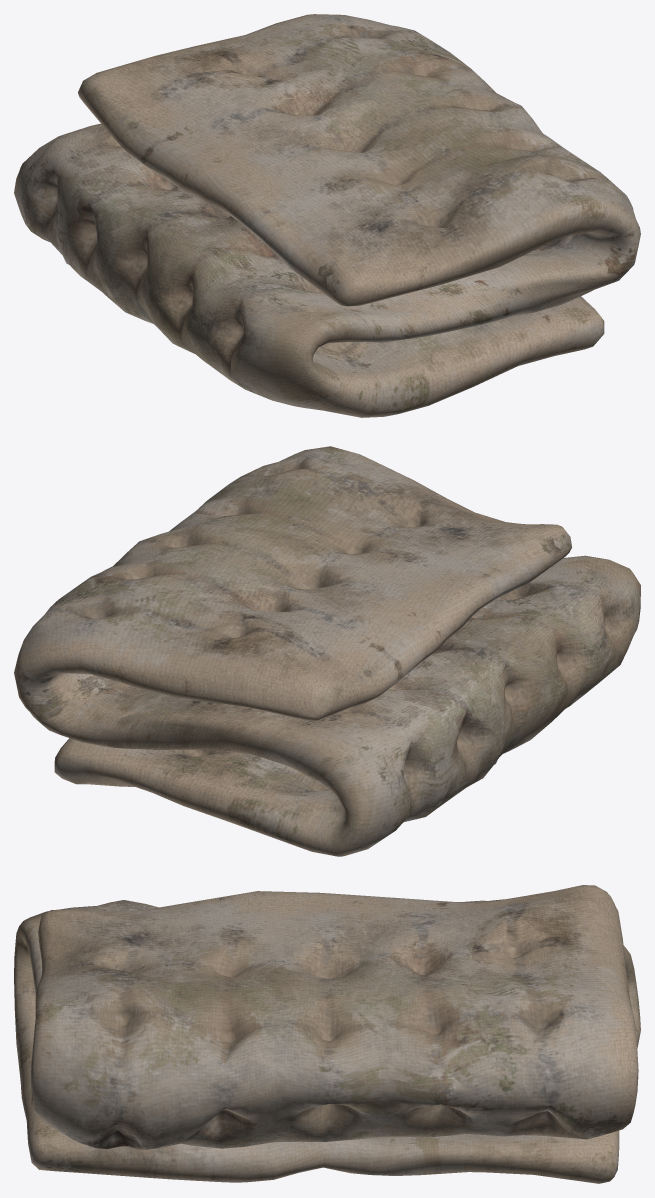
Rendered from SM_Mattress01_3_LOD0.glb.
3 views of the same model, one above another, from view 1: azimuth 30°, elevation 25°; view 2: azimuth 150°, elevation 25°; view 3: azimuth 270°, elevation 25° (orthographic). The views are drawn at different scales.
Visible parts, largest first — view 1: SM_Mattress01_3_LOD0; view 2: SM_Mattress01_3_LOD0; view 3: SM_Mattress01_3_LOD0.
Part boxes in pixels (x1,y1,x2,y2): SM_Mattress01_3_LOD0: (14,14,640,417); SM_Mattress01_3_LOD0: (14,446,640,856); SM_Mattress01_3_LOD0: (14,885,640,1183).
Size of the model in its own units: 0.8944 by 0.3764 by 1.09.
1 material, 1 textured.
